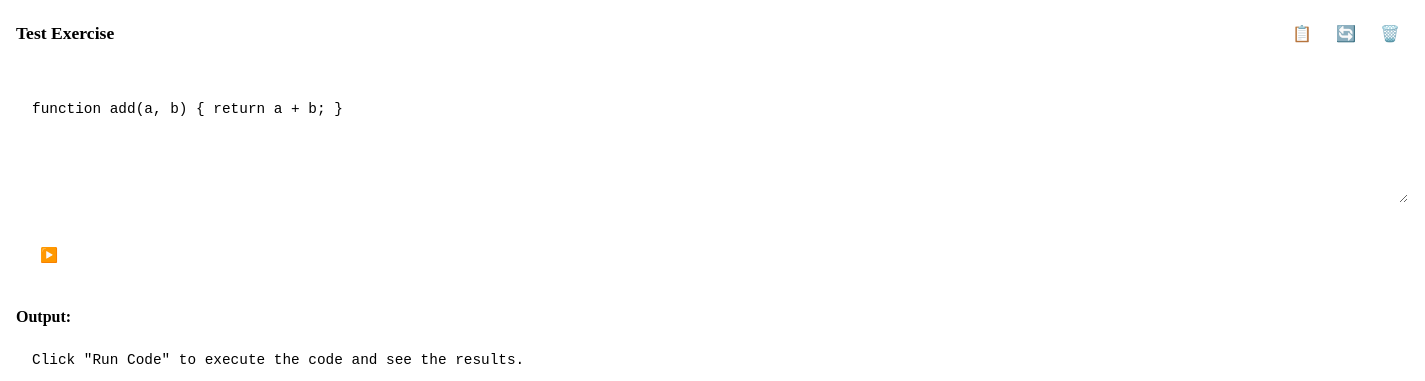
Test case: CodeRunner › resets code when reset button is clicked
Replace the text in the text box showing "function add(a, b) { return a + b; }" with "modified code": [712, 143] box x1=16 y1=83 x2=1408 y2=203
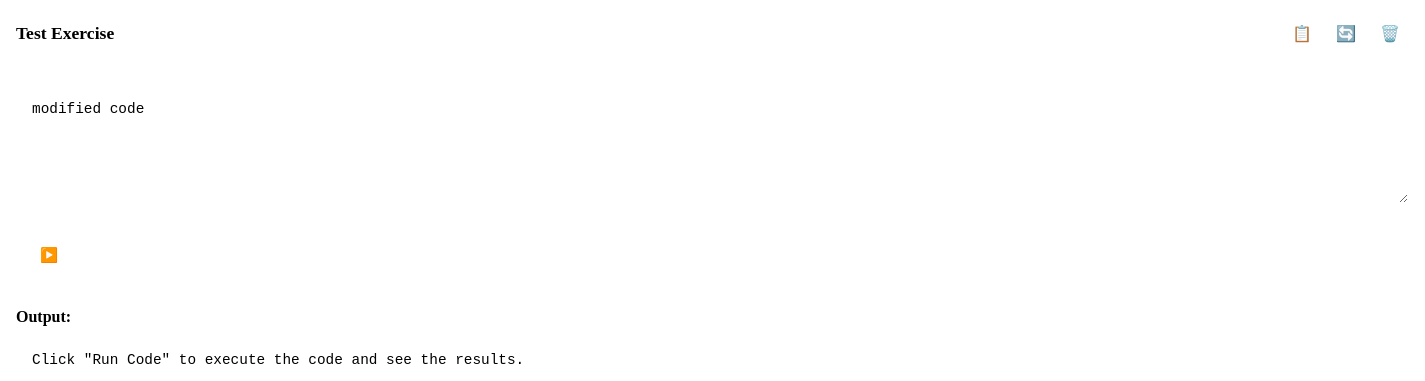
Click the button titled "Reset code": [1346, 34] box x1=1328 y1=16 x2=1364 y2=51
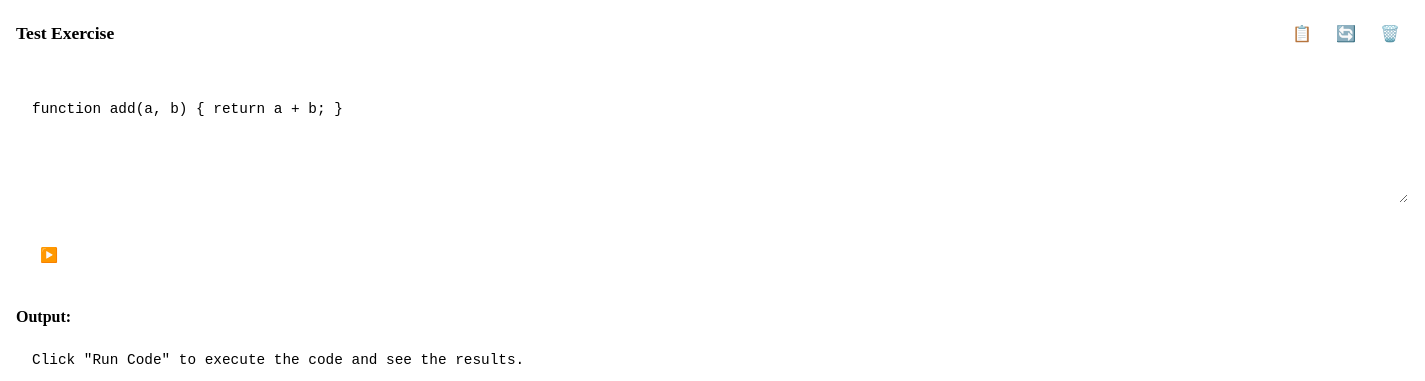
Expected: the text box showing "function add(a, b) { return a + b; }" is shown, x1=16 y1=83 x2=1408 y2=203
